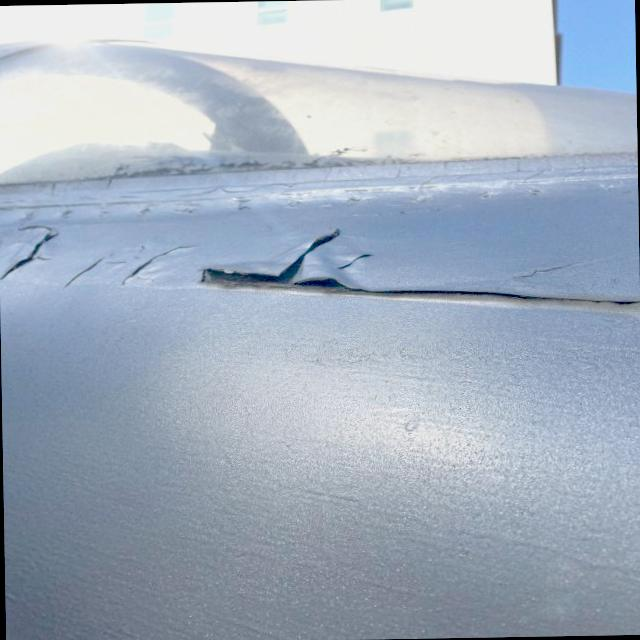crack: (58, 244, 184, 294), (497, 262, 571, 281), (348, 254, 373, 268)
